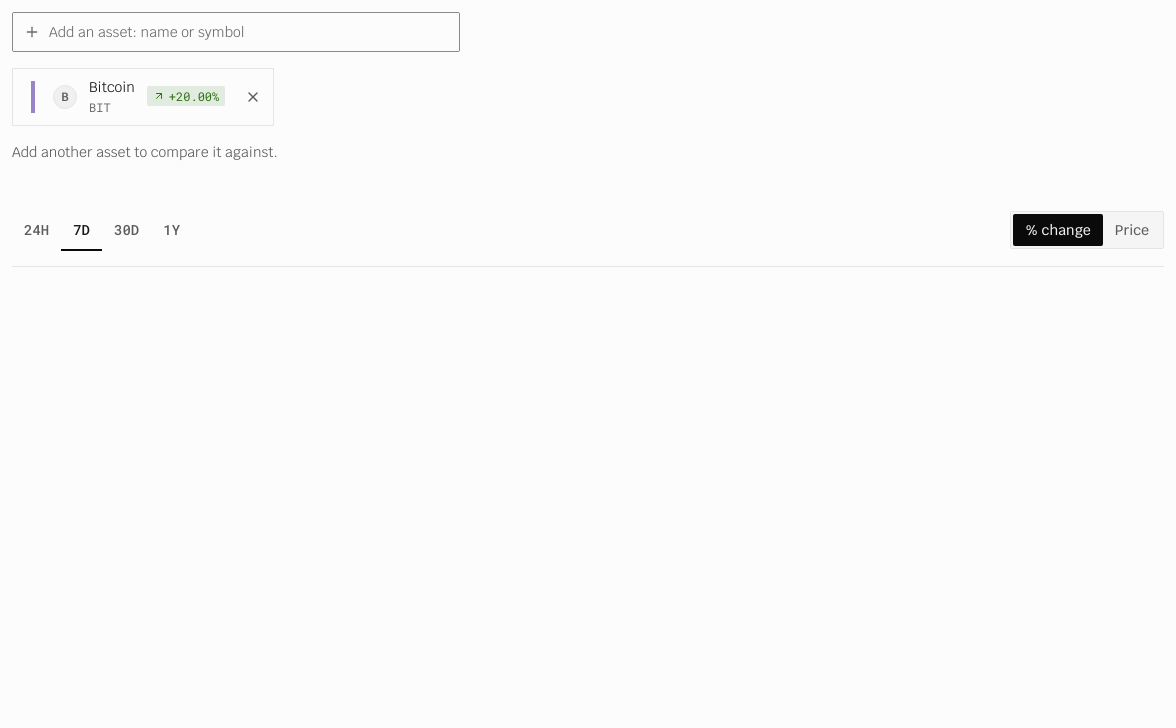
Test: CompareView: choosing assets › does not offer assets that are already in the comparison
This screenshot has width=1176, height=728.
Click the dropdown.
click(236, 32)  # box [12,12,460,52]
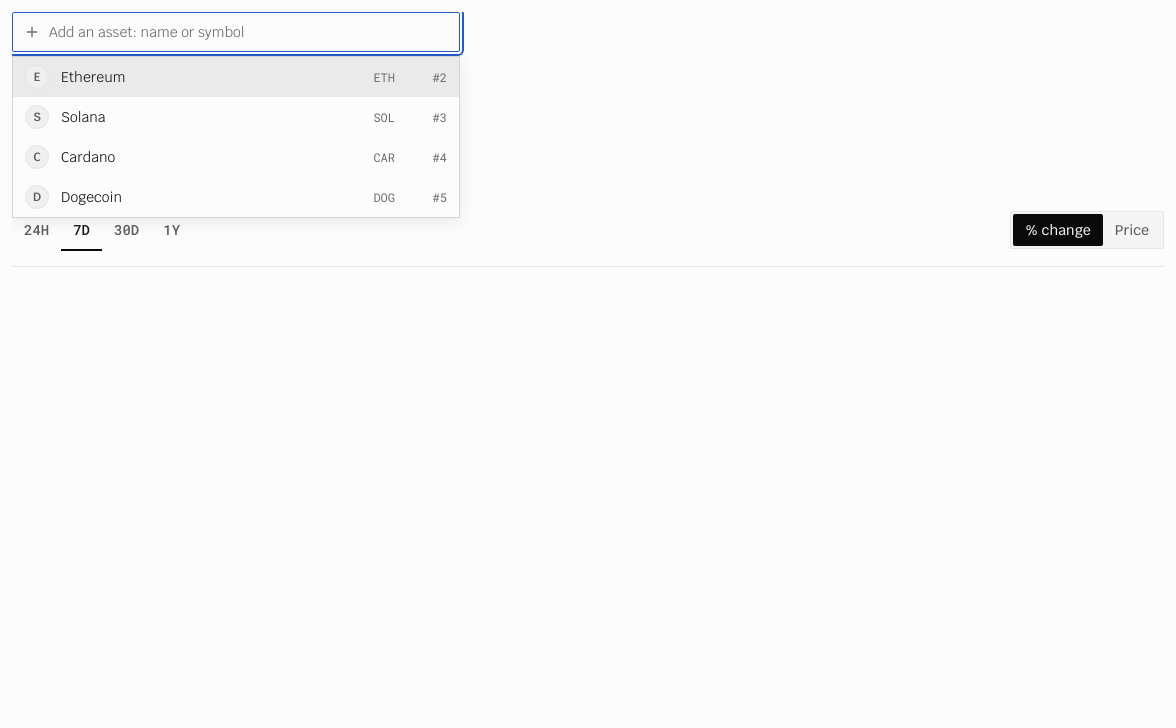
Now the option "E Ethereum ETH #2" is shown, box [13,57,459,97]
